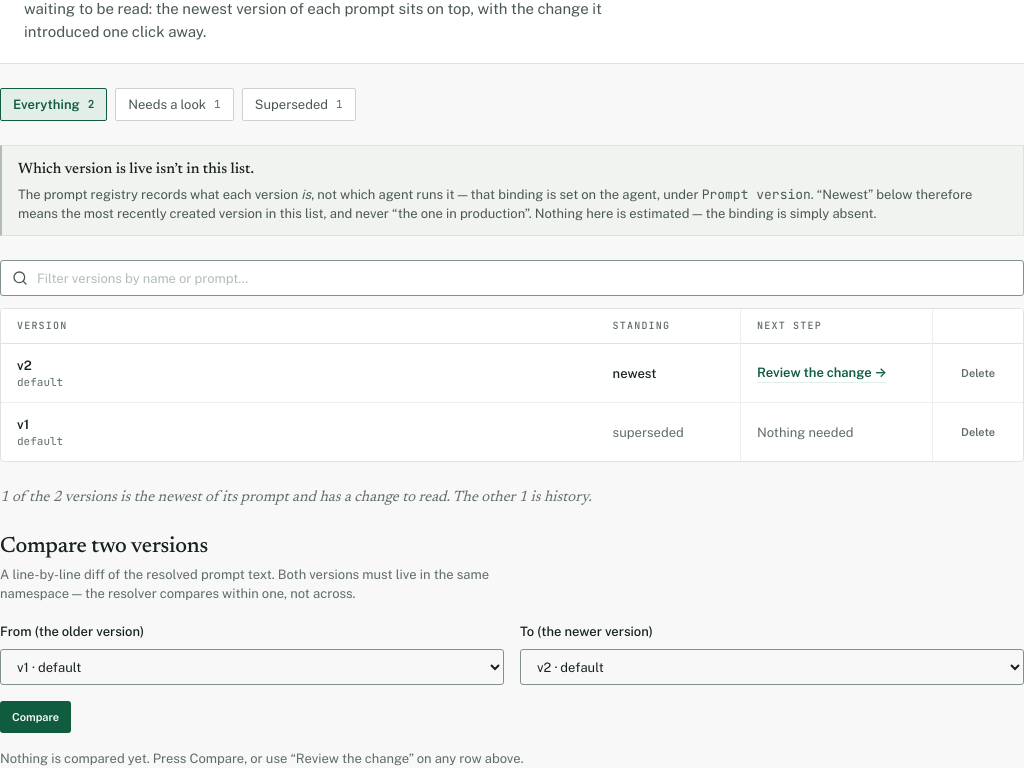
PromptsPage › 404 → not-found state — distinct from 502 and other errors
(page scrolled)
Check: the element with test id "prompt-version-v1" is shown, box [17,417,63,448]
Select "v1 · default" in the dropdown with test id "diff-from-input": (252, 667) [0,649,504,685]
Select "v2 · default" in the dropdown with test id "diff-to-input": (772, 667) [520,649,1023,685]
Click the button with test id "diff-compare-btn": (36, 717) [0,701,71,733]
(page scrolled)
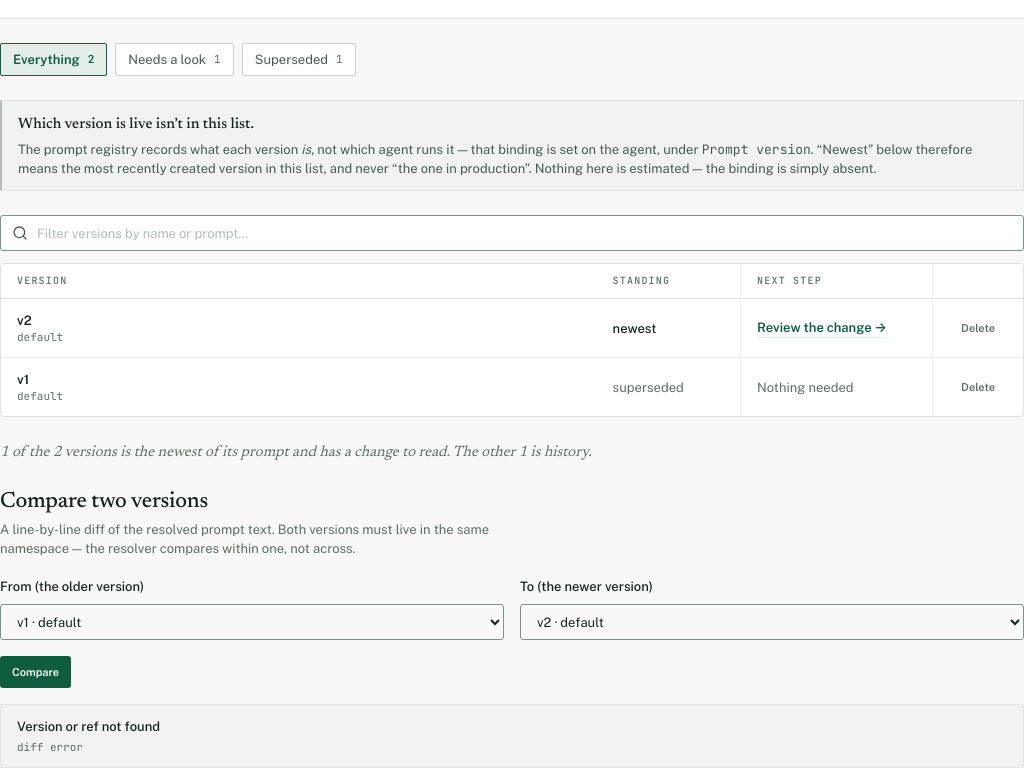
Check: the message "Version or ref not found diff error" is shown, box [0,704,1023,767]
Check: the text "Version or ref not found" is shown, box [17,719,160,734]
